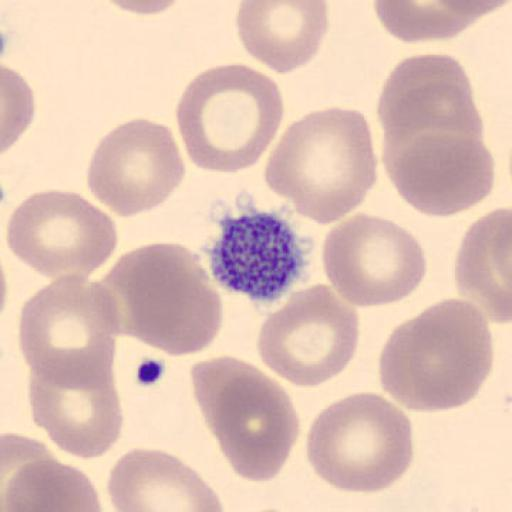Platelet: (205, 206, 313, 306)
RBC: (376, 57, 490, 214), (264, 104, 378, 226), (377, 296, 495, 413), (195, 356, 301, 486), (107, 241, 223, 358), (376, 52, 482, 174), (174, 62, 287, 176), (16, 272, 122, 391), (378, 78, 486, 191), (304, 389, 414, 495), (254, 282, 360, 389), (6, 188, 120, 284), (322, 211, 428, 309), (28, 353, 124, 461), (86, 117, 187, 219), (384, 130, 495, 218), (376, 52, 476, 141), (105, 445, 224, 512), (452, 205, 512, 325), (235, 1, 330, 74), (370, 0, 512, 44), (1, 457, 103, 512), (0, 430, 61, 509), (2, 62, 36, 155), (436, 0, 512, 21), (98, 0, 186, 17)
